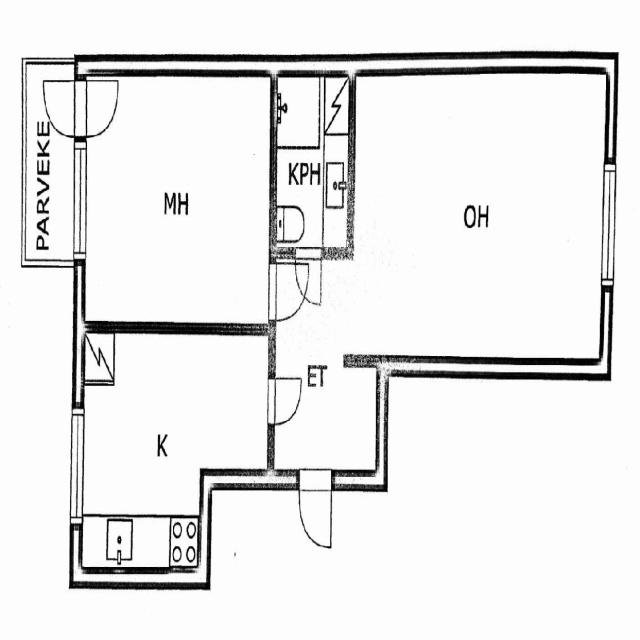door: (294, 466, 338, 554), (80, 71, 122, 139), (39, 75, 81, 140), (266, 372, 306, 430), (286, 254, 322, 317)
window: (598, 159, 620, 291), (66, 405, 88, 528), (70, 141, 90, 266)
zone: (346, 70, 610, 366), (83, 70, 274, 328), (81, 334, 275, 522), (269, 71, 351, 257), (75, 517, 198, 575)
